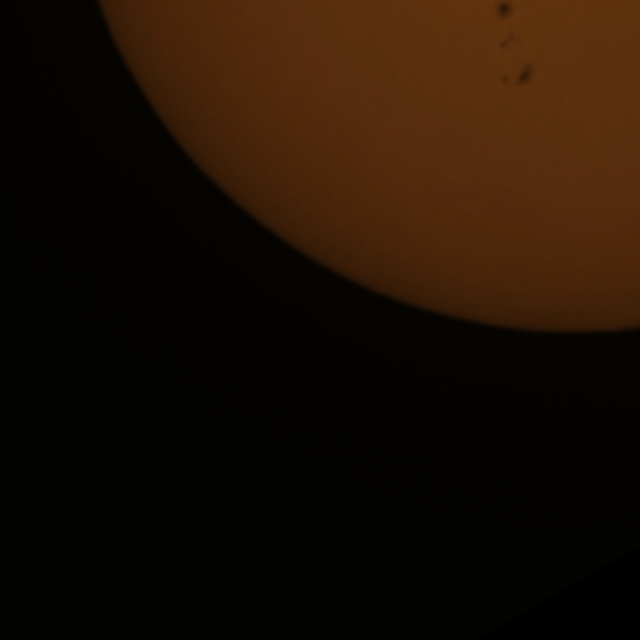sunspot: (497, 59, 535, 90), (494, 0, 515, 23), (497, 31, 518, 53)
